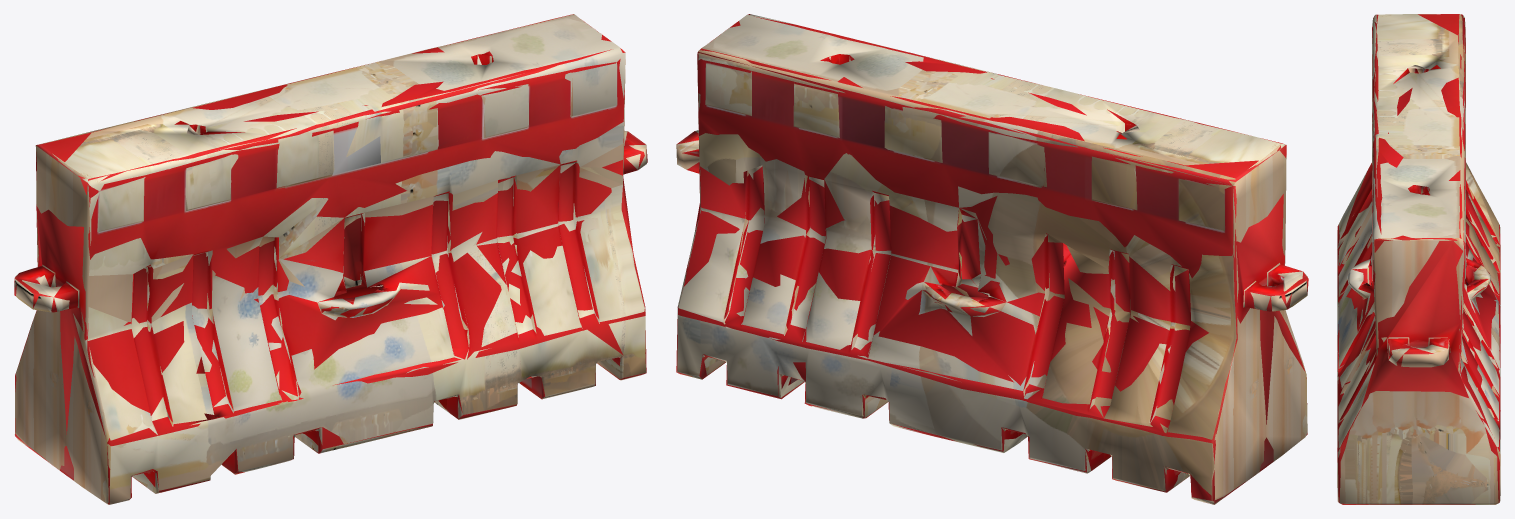
The model's file is bariyer.fbx.
3 renders of one model, left to right at view 1: azimuth 30°, elevation 25°; view 2: azimuth 150°, elevation 25°; view 3: azimuth 270°, elevation 25°, orthographic. The views are drawn at different scales.
Parts seen in each view (by area): view 1: Mesh_0, Mesh_0.001; view 2: Mesh_0, Mesh_0.001; view 3: Mesh_0, Mesh_0.001.
Boxes of the visible parts, <box> form: Mesh_0: <box>14,14,646,504</box>; Mesh_0.001: <box>14,14,647,504</box>; Mesh_0: <box>676,14,1307,504</box>; Mesh_0.001: <box>676,14,1308,503</box>; Mesh_0: <box>1337,14,1500,504</box>; Mesh_0.001: <box>1337,14,1500,504</box>.
Size of the model in its own units: 191 by 92.67 by 51.27.
